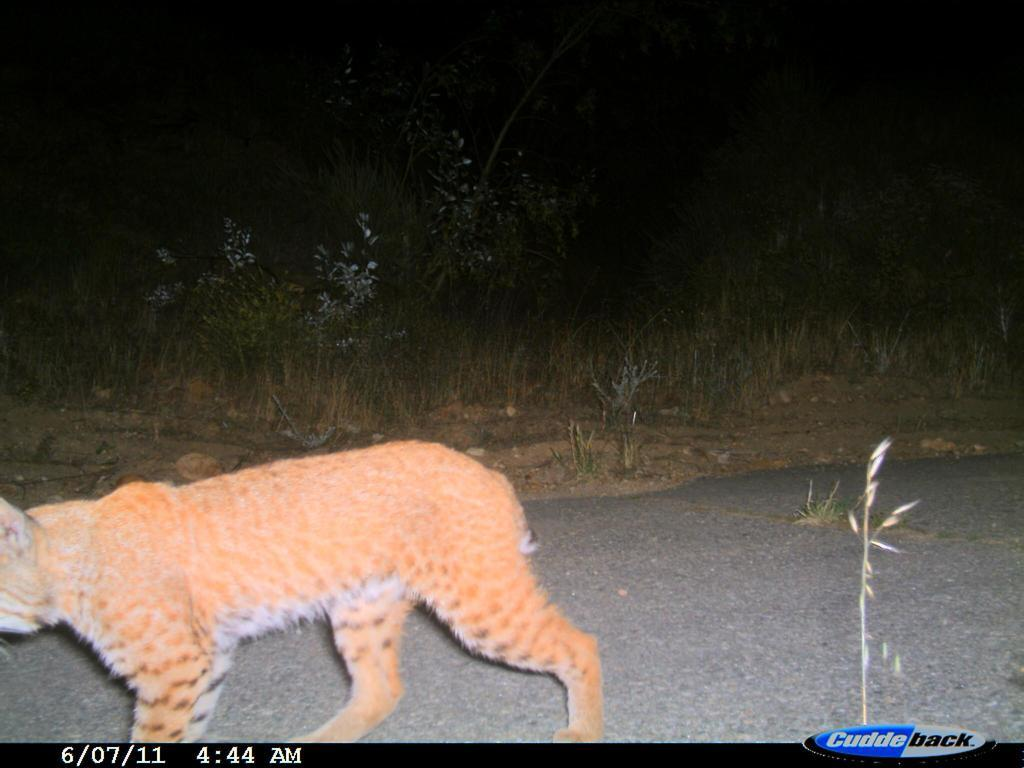bobcat: (3, 422, 614, 742)
